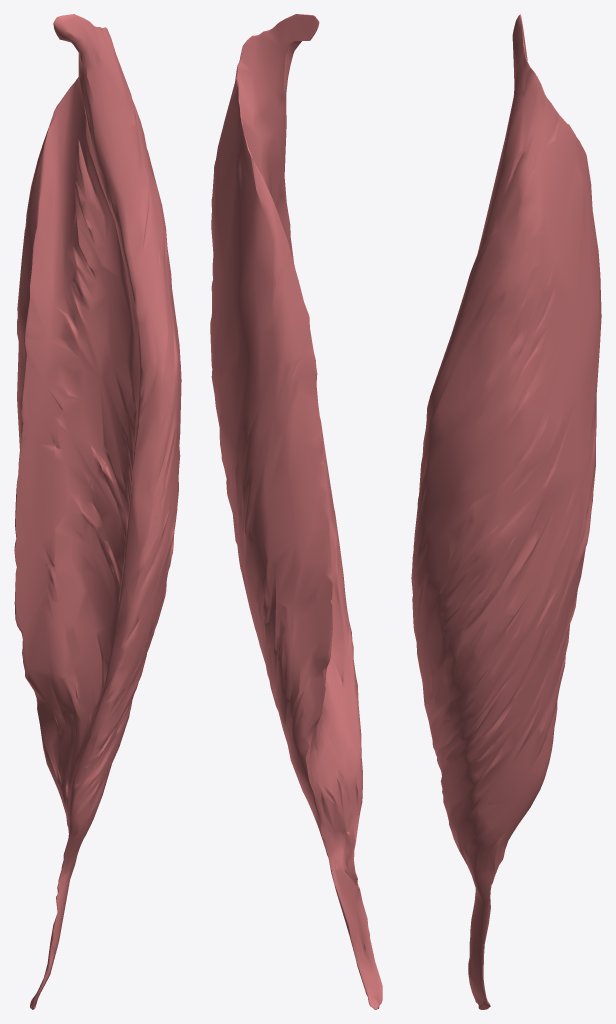
3 renders of one model, left to right at view 1: azimuth 30°, elevation 25°; view 2: azimuth 150°, elevation 25°; view 3: azimuth 270°, elevation 25°, orthographic. The views are drawn at different scales.
Parts seen in each view (by area): view 1: FJ1442M; view 2: FJ1442M; view 3: FJ1442M.
Boxes of the visible parts, <box> form: FJ1442M: <box>14,14,181,1009</box>; FJ1442M: <box>210,14,382,1009</box>; FJ1442M: <box>411,14,601,1009</box>.
Bounding box in the file's own units: 0.0751 × 0.4677 × 0.0791.
